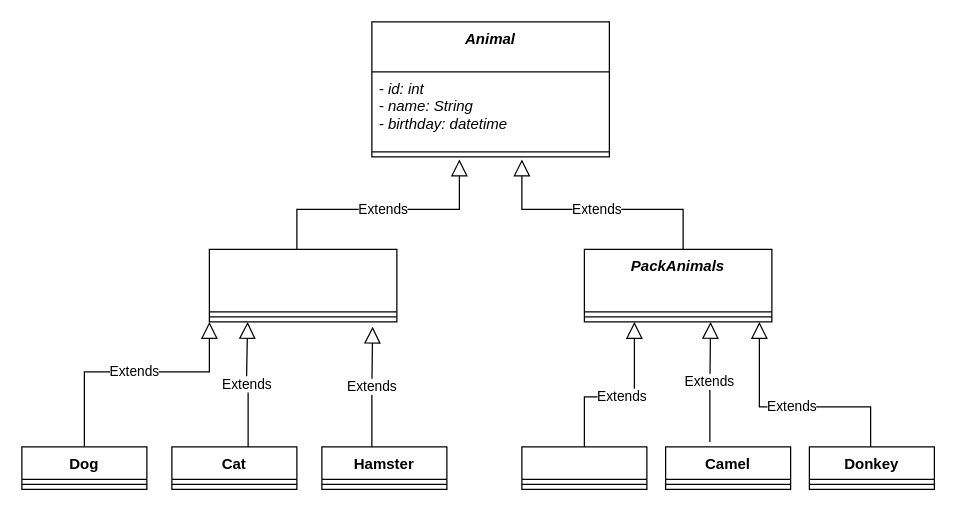
The diagram is 956 pixels wide and 511 high, and some of its shapes have lost their labels. Here are the shapes that lost their labels. From the top down, the centre of each, then its label:
the point at 302,285: Pet
the point at 584,467: Horse
